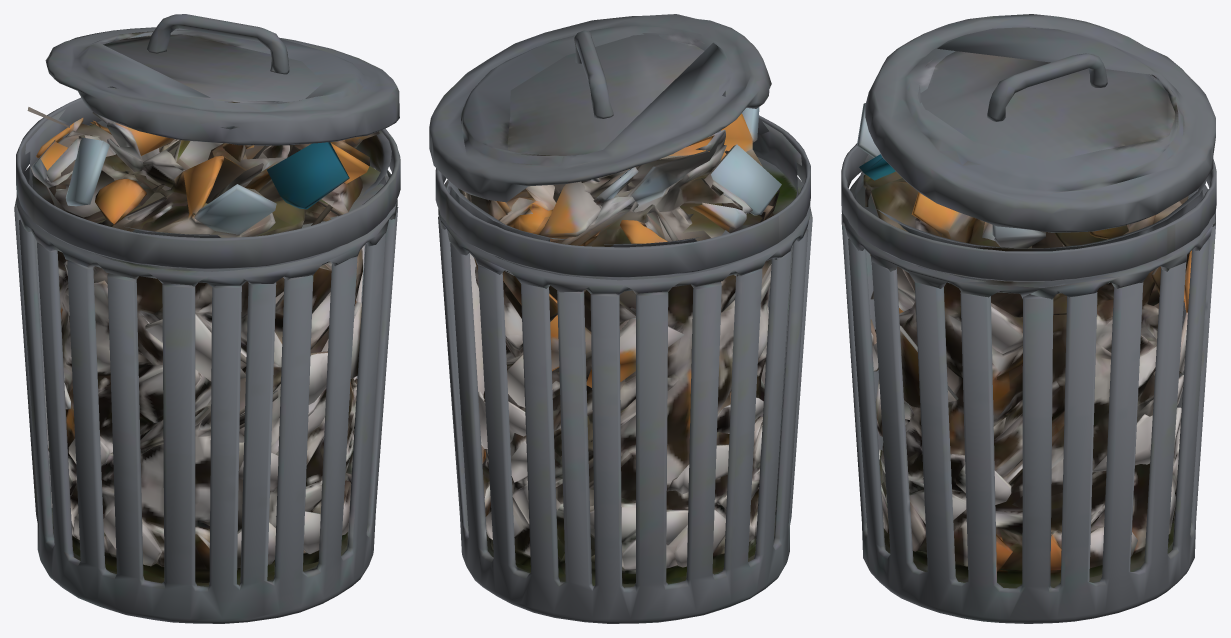
The model's file is crushed_garbage_can_170145ca_v4.glb.
The picture shows the model from 3 angles, left to right: view 1: azimuth 30°, elevation 25°; view 2: azimuth 150°, elevation 25°; view 3: azimuth 270°, elevation 25°; orthographic projection. The views are drawn at different scales.
Visible parts, largest first — view 1: material; view 2: material; view 3: material.
Boxes of the visible parts, left/top/right/bottom form: material: left=14, top=14, right=400, bottom=623; material: left=429, top=14, right=812, bottom=623; material: left=841, top=14, right=1216, bottom=623.
Size of the model in its own units: 1.29 by 1.9 by 1.28.
Materials: 1 (1 with a texture image).
